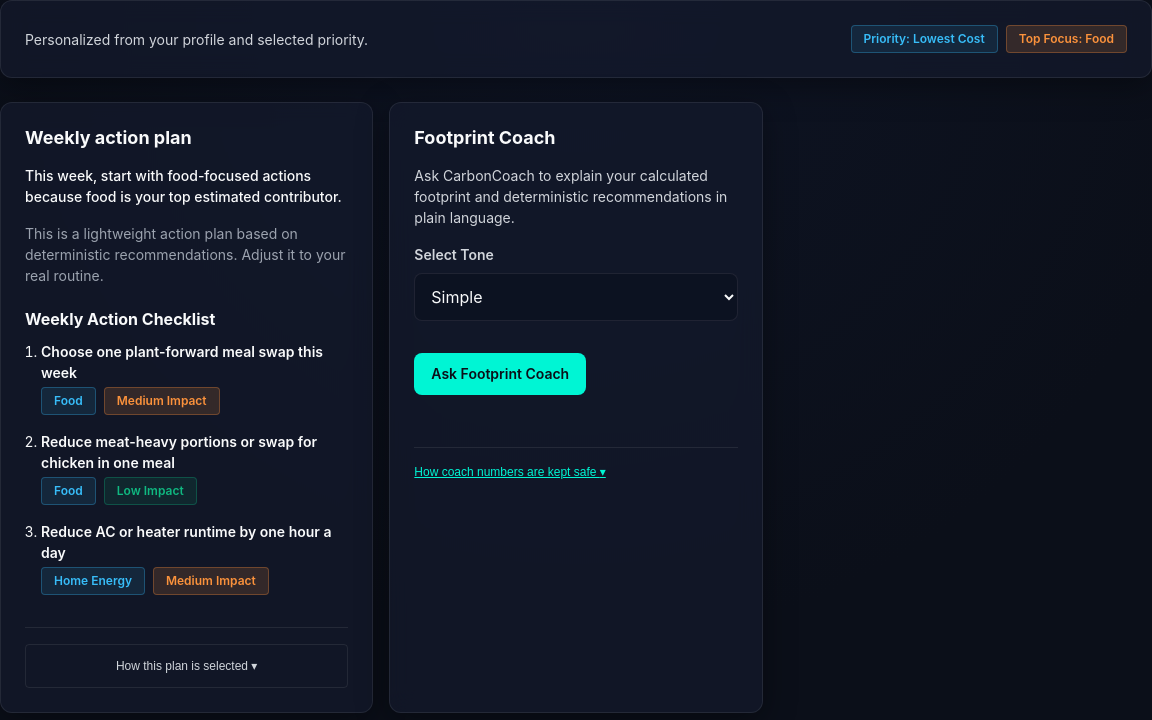
Test case: RecommendationPanel Component › collapses plan assumptions by default and expands on click
expect the text "Plan uses estimates from your footprint calculation." is not shown: met
What coordinates should you click on to do the following:
click the button "How this plan is selected ▾"
I would click on:
 (187, 666)
Its box is [25, 644, 348, 688].
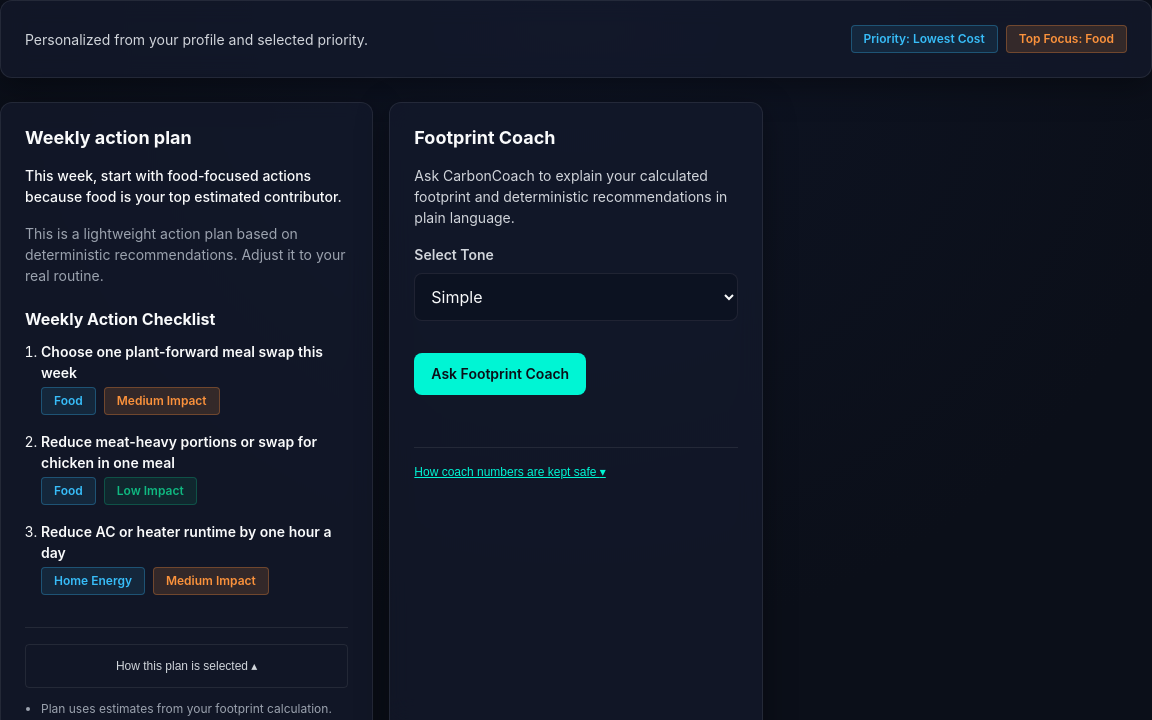
expect the list item "Plan uses estimates from your footprint calculation." is shown: met, box [41, 700, 348, 718]
